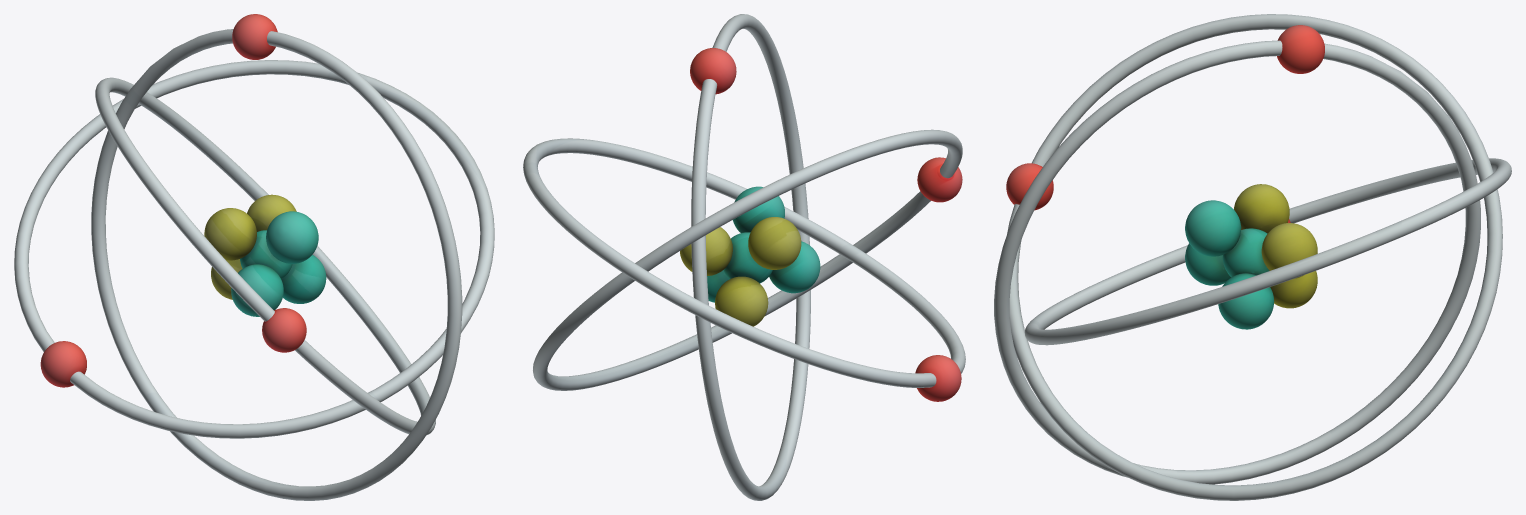
Rendered from atom_3D.glb.
3 views of the same model, side by side, from view 1: azimuth 30°, elevation 25°; view 2: azimuth 150°, elevation 25°; view 3: azimuth 270°, elevation 25° (orthographic). The views are drawn at different scales.
Visible parts, largest first — view 1: node_id30; view 2: node_id30; view 3: node_id30.
Boxes of the visible parts, x1,y1,x2,y2 form: node_id30: (14, 14, 494, 500); node_id30: (523, 14, 965, 500); node_id30: (994, 14, 1511, 500).
Bounding box in the file's own units: 0.5301 × 0.545 × 0.5426.
Materials: 1 (1 with a texture image).
